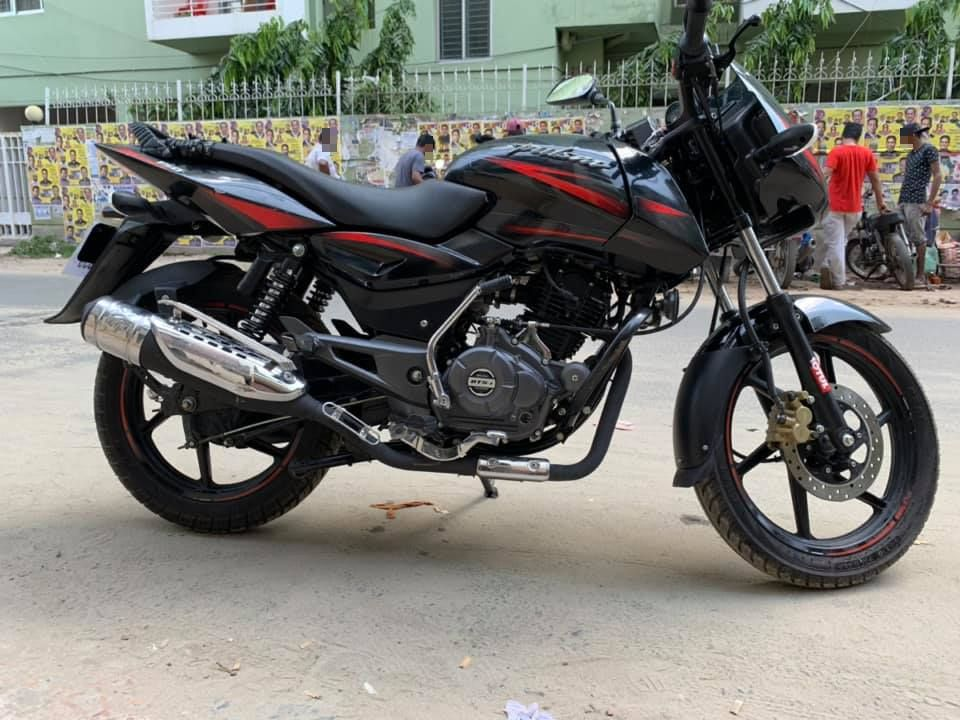bike: (69, 1, 941, 589)
